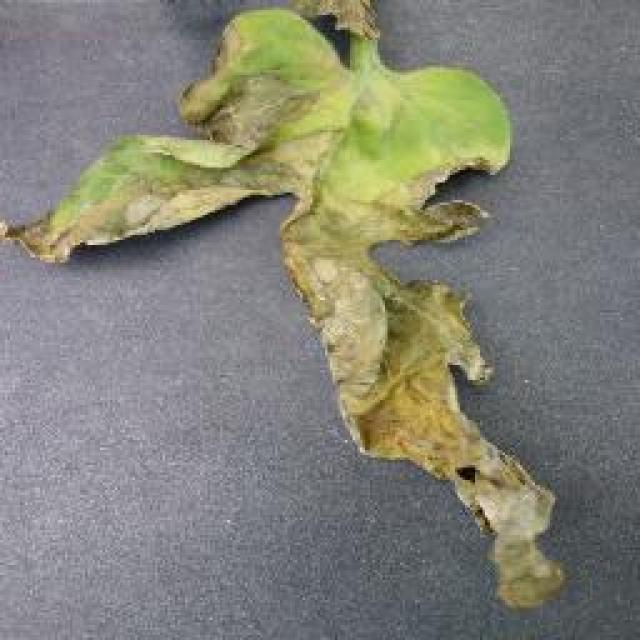Tomato Late Blight: (156, 36, 562, 626)
